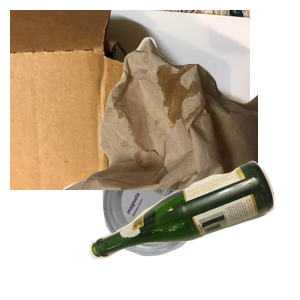cardboard: (10, 10, 250, 190)
glass: (87, 158, 300, 300)
plastic: (100, 152, 293, 300)
trash: (60, 35, 300, 215)
